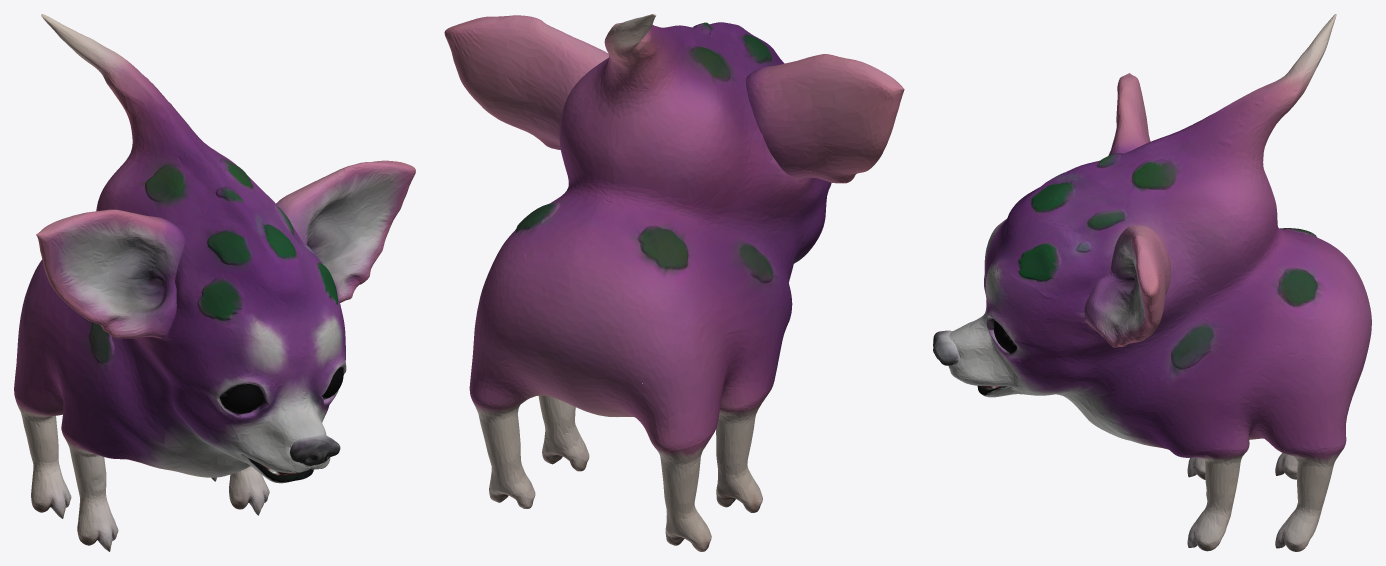
File: doku.glb
The picture shows the model from 3 angles, left to right: view 1: azimuth 30°, elevation 25°; view 2: azimuth 150°, elevation 25°; view 3: azimuth 270°, elevation 25°; orthographic projection. The views are drawn at different scales.
Bounding box in the file's own units: 0.8318 × 0.9795 × 0.8337.
